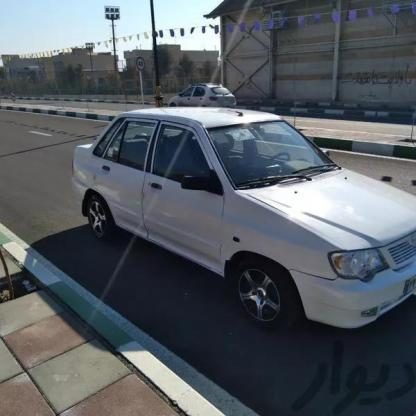Car: (59, 106, 416, 352), (156, 78, 245, 122)
